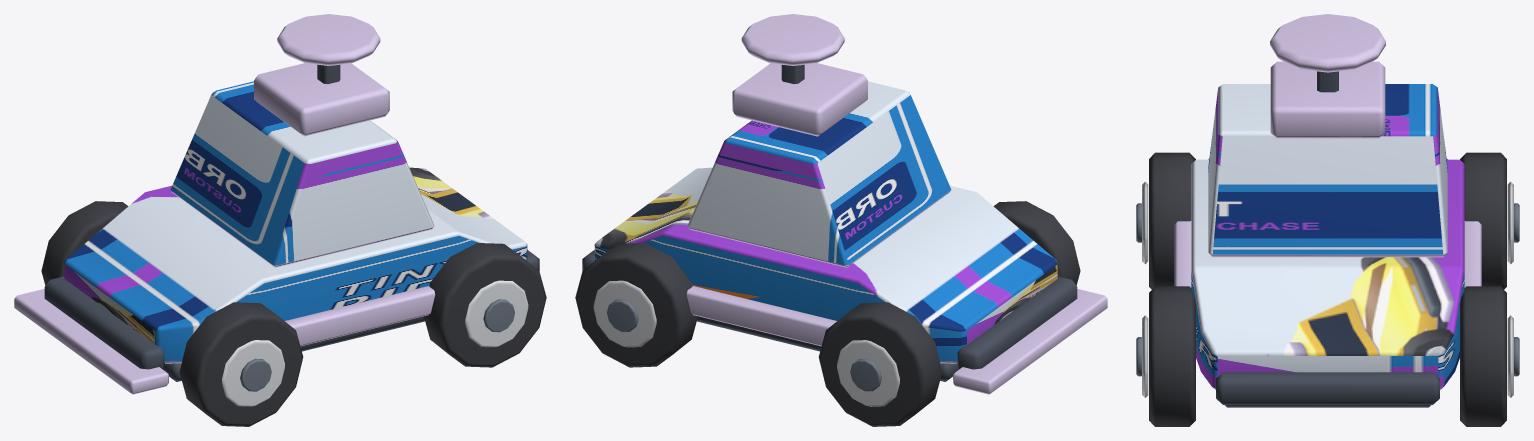
3 views of the same model, side by side, from view 1: azimuth 30°, elevation 25°; view 2: azimuth 150°, elevation 25°; view 3: azimuth 270°, elevation 25° (orthographic). The views are drawn at different scales.
Parts seen in each view (by area): view 1: FF-02_connected_shell, FF-02_cabin, Tire, Tire.002, custom equipment, custom chin, sensor dish, custom side guard, front bumper, Tire.001, Rim, Rim.002 (+3 smaller); view 2: FF-02_connected_shell, FF-02_cabin, Tire.001, Tire.003, custom equipment, custom chin, sensor dish, custom side guard.001, front bumper, Tire, Rim.001, Rim.003 (+3 smaller); view 3: FF-02_connected_shell, FF-02_cabin, custom equipment, rear bumper, Tire.002, Tire.003, sensor dish, Tire, Tire.001, custom side guard, custom side guard.001, underbody (+5 smaller).
Part boxes in pixels (left/top/right/bottom): FF-02_connected_shell: left=64, top=167, right=527, bottom=363; FF-02_cabin: left=170, top=81, right=434, bottom=267; Tire: left=179, top=302, right=303, bottom=426; Tire.002: left=424, top=243, right=546, bottom=367; custom equipment: left=254, top=63, right=389, bottom=136; custom chin: left=14, top=289, right=168, bottom=394; sensor dish: left=277, top=14, right=380, bottom=65; custom side guard: left=285, top=286, right=435, bottom=346; front bumper: left=44, top=276, right=164, bottom=369; Tire.001: left=41, top=201, right=128, bottom=285; Rim: left=222, top=340, right=284, bottom=406; Rim.002: left=465, top=280, right=528, bottom=347; FF-02_connected_shell: left=594, top=167, right=1057, bottom=363; FF-02_cabin: left=687, top=81, right=951, bottom=267; Tire.001: left=818, top=302, right=942, bottom=426; Tire.003: left=575, top=243, right=697, bottom=367; custom equipment: left=732, top=63, right=867, bottom=136; custom chin: left=953, top=289, right=1107, bottom=394; sensor dish: left=741, top=14, right=844, bottom=65; custom side guard.001: left=686, top=286, right=836, bottom=346; front bumper: left=957, top=276, right=1077, bottom=369; Tire: left=993, top=201, right=1080, bottom=285; Rim.001: left=837, top=340, right=899, bottom=406; Rim.003: left=593, top=280, right=656, bottom=347; FF-02_connected_shell: left=1191, top=159, right=1464, bottom=389; FF-02_cabin: left=1208, top=84, right=1447, bottom=257; custom equipment: left=1270, top=61, right=1385, bottom=138; rear bumper: left=1216, top=372, right=1439, bottom=404; Tire.002: left=1149, top=286, right=1195, bottom=426; Tire.003: left=1460, top=286, right=1506, bottom=426; sensor dish: left=1270, top=14, right=1385, bottom=72; Tire: left=1149, top=152, right=1195, bottom=289; Tire.001: left=1460, top=152, right=1506, bottom=289; custom side guard: left=1174, top=221, right=1191, bottom=287; custom side guard.001: left=1464, top=221, right=1481, bottom=287; underbody: left=1225, top=405, right=1430, bottom=407.
Size of the model in its own units: 302 by 206 by 212.
